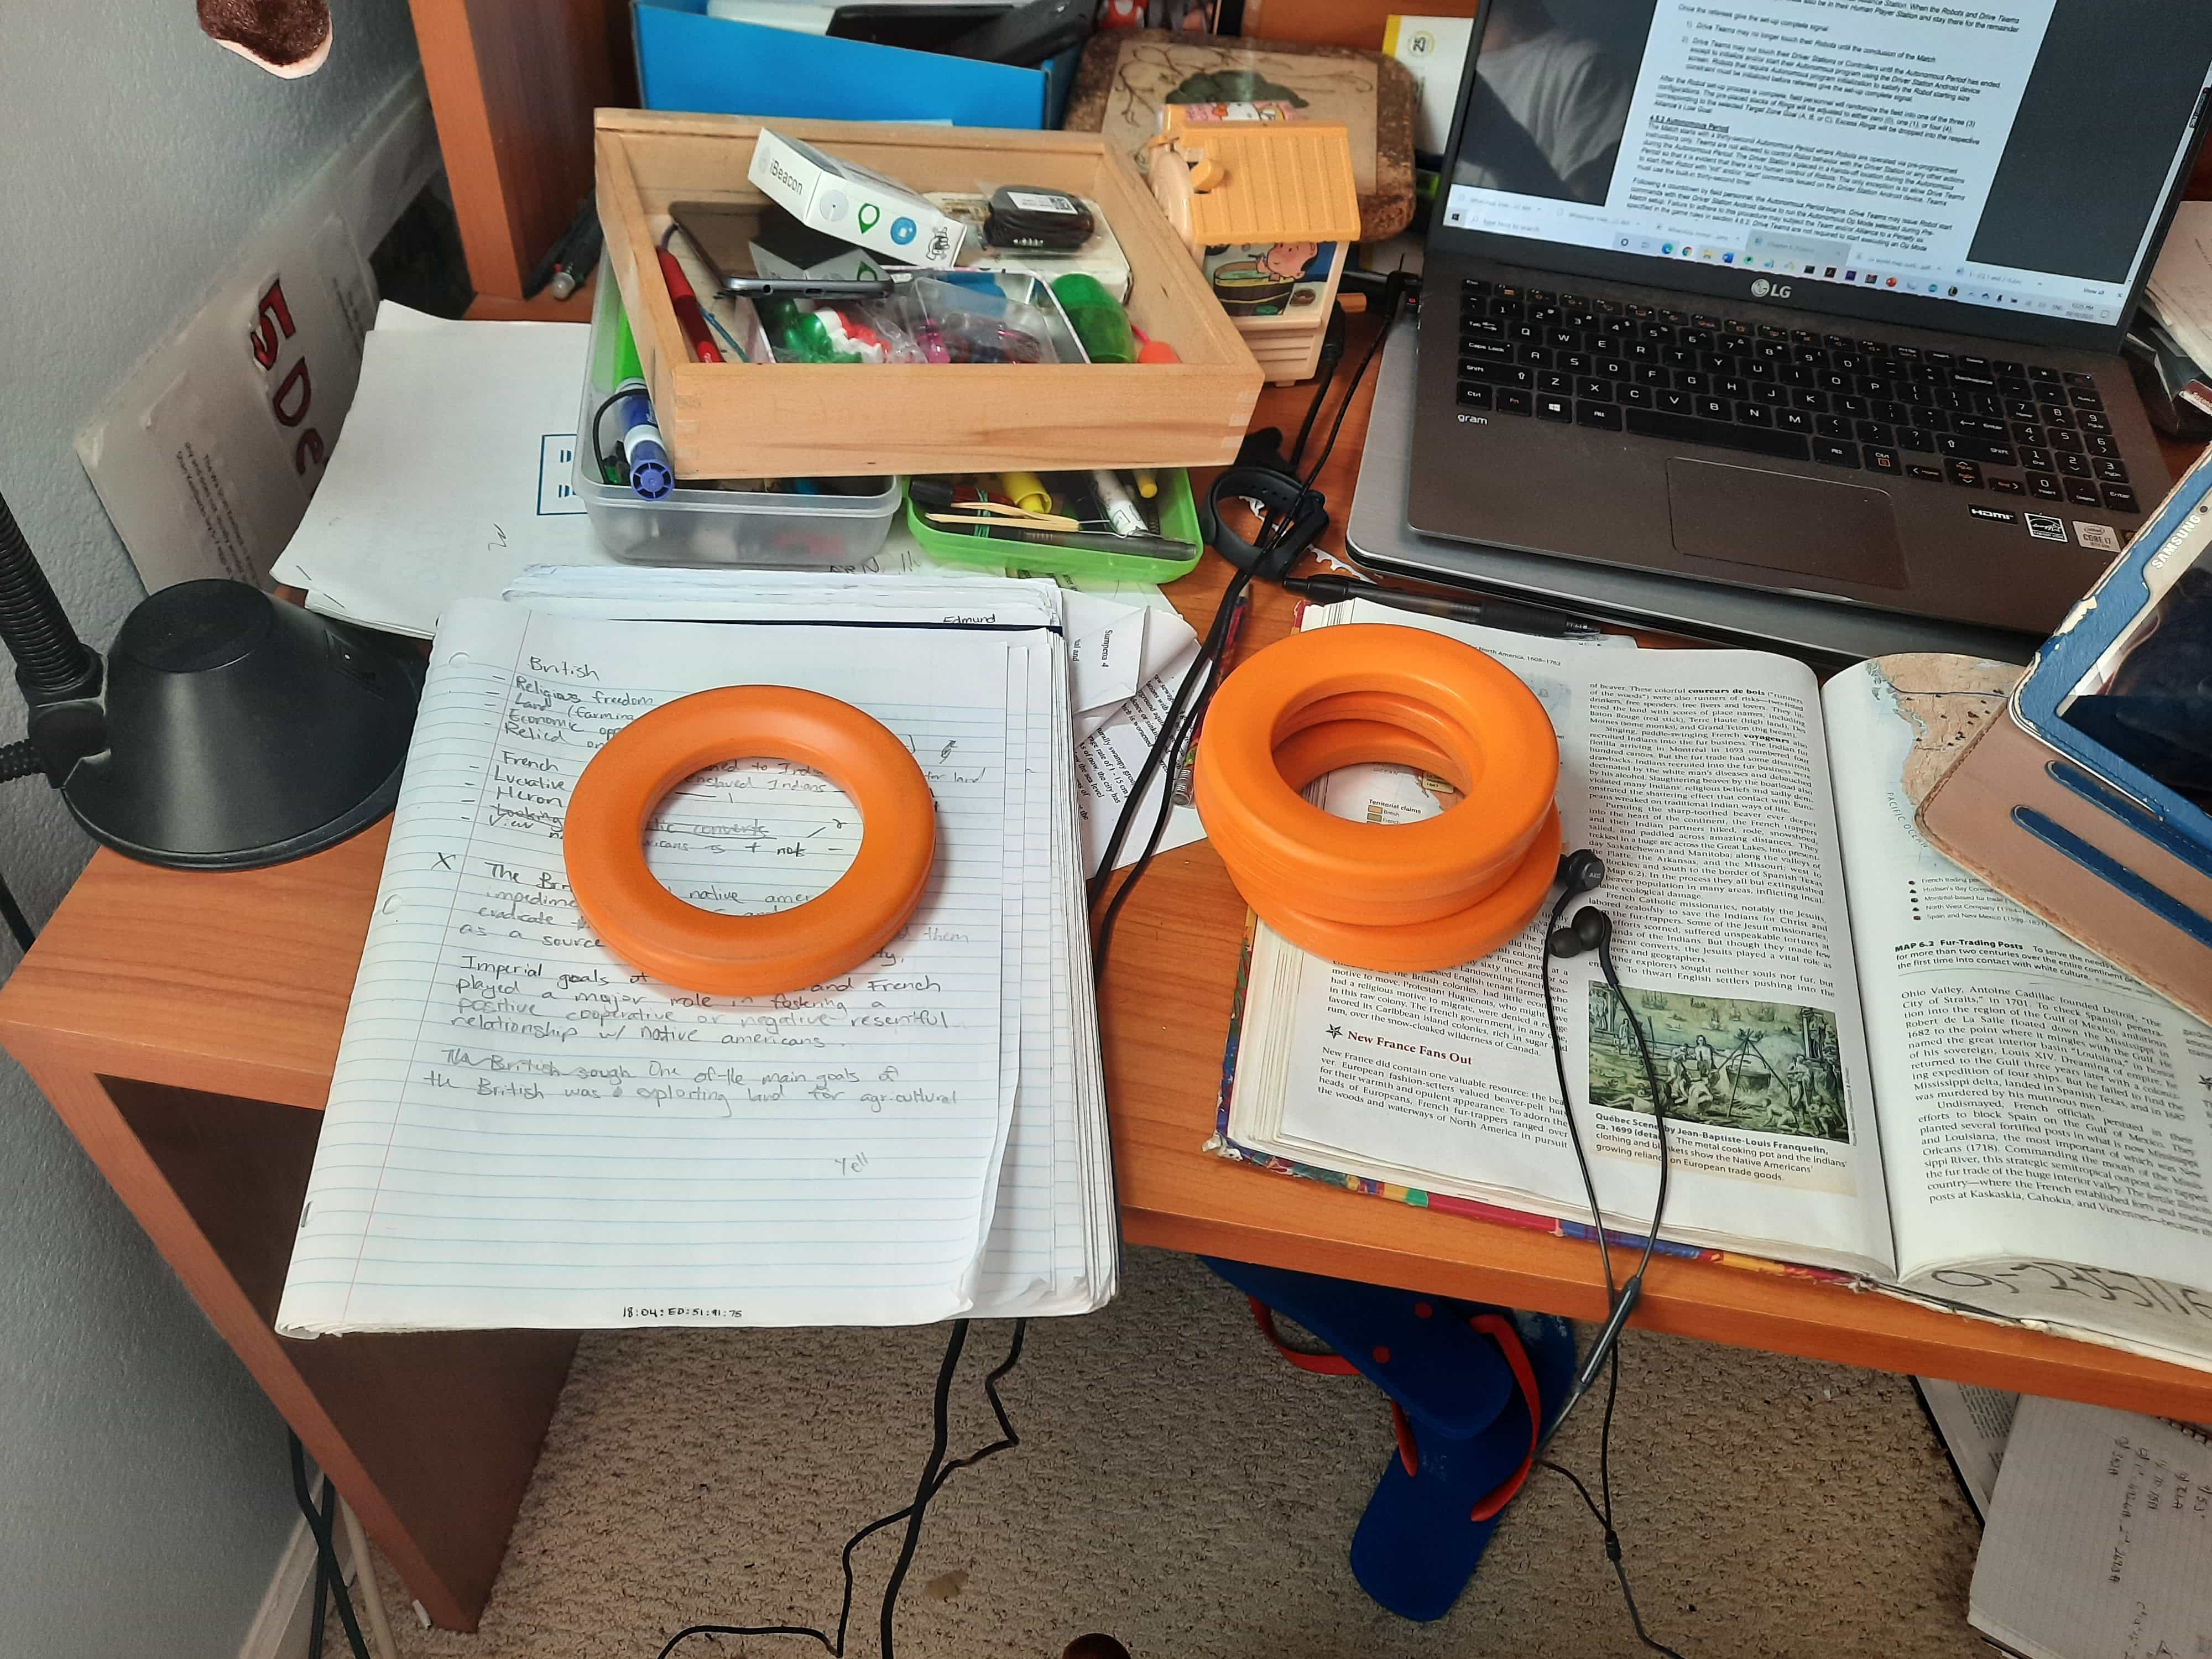FourStack: (1214, 638, 1554, 951)
OneStack: (577, 694, 934, 986)
